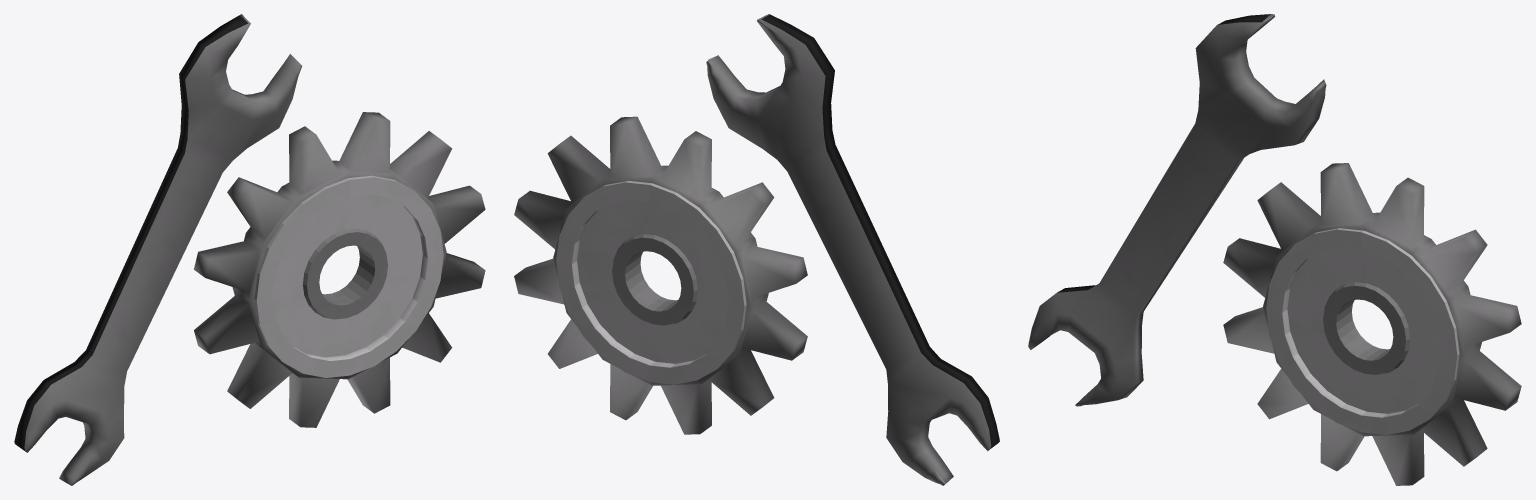
The model's file is WrenchCog.fbx.
The picture shows the model from 3 angles, left to right: view 1: azimuth 30°, elevation 25°; view 2: azimuth 150°, elevation 25°; view 3: azimuth 330°, elevation 25°; orthographic projection. The views are drawn at different scales.
Parts seen in each view (by area): view 1: WrenchCog; view 2: WrenchCog; view 3: WrenchCog.
Part boxes in pixels (x1=…): WrenchCog: x1=14, y1=14, x2=485, y2=485; WrenchCog: x1=514, y1=14, x2=999, y2=485; WrenchCog: x1=1028, y1=14, x2=1521, y2=485.
Size of the model in its own units: 1.15 by 0.9998 by 0.0964.
